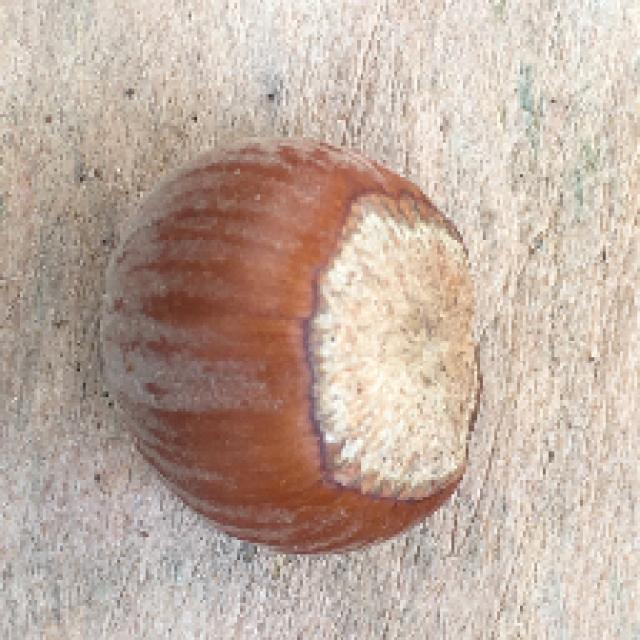qualityHazelnut: (84, 150, 484, 555)
